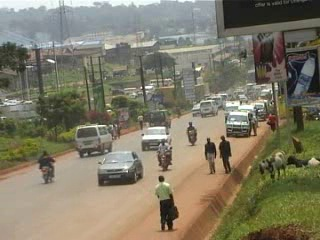Car: (95, 149, 144, 188), (140, 124, 174, 153), (190, 101, 202, 118)
Motorcycle: (36, 147, 59, 185), (153, 137, 177, 172), (184, 119, 199, 146)
